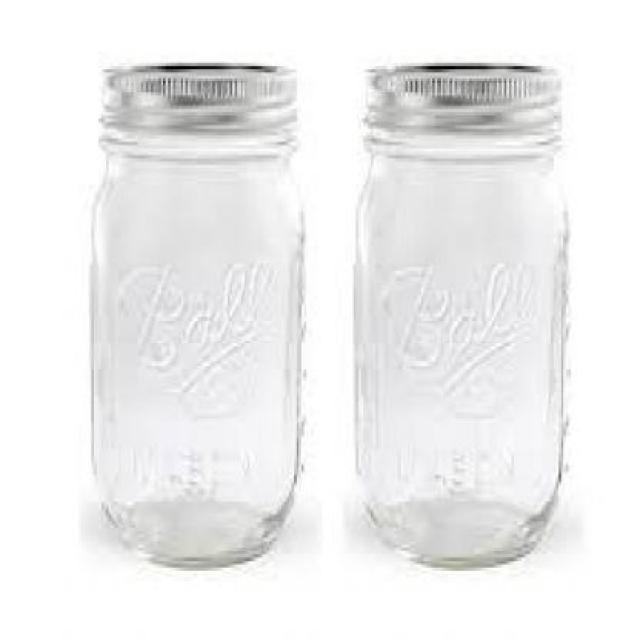kaca: (351, 121, 563, 564), (90, 129, 298, 565)
